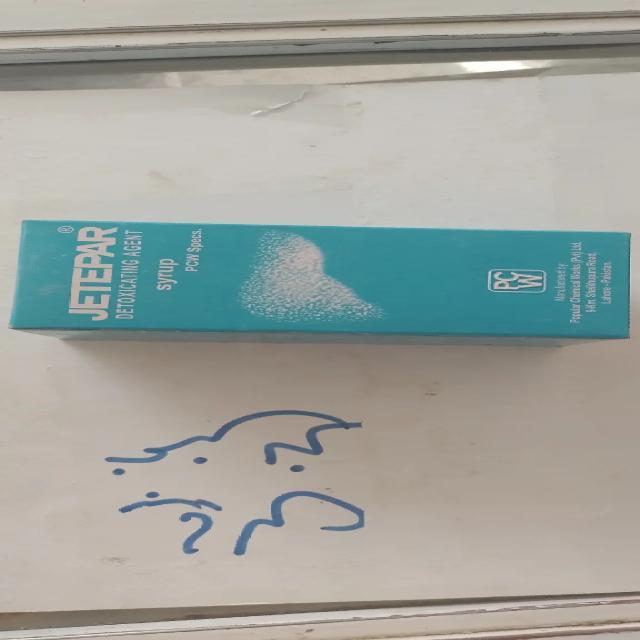drug-name: (65, 226, 119, 322)
